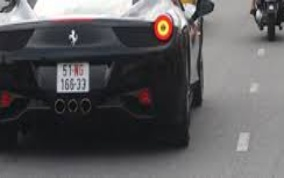plate: (55, 61, 90, 94)
